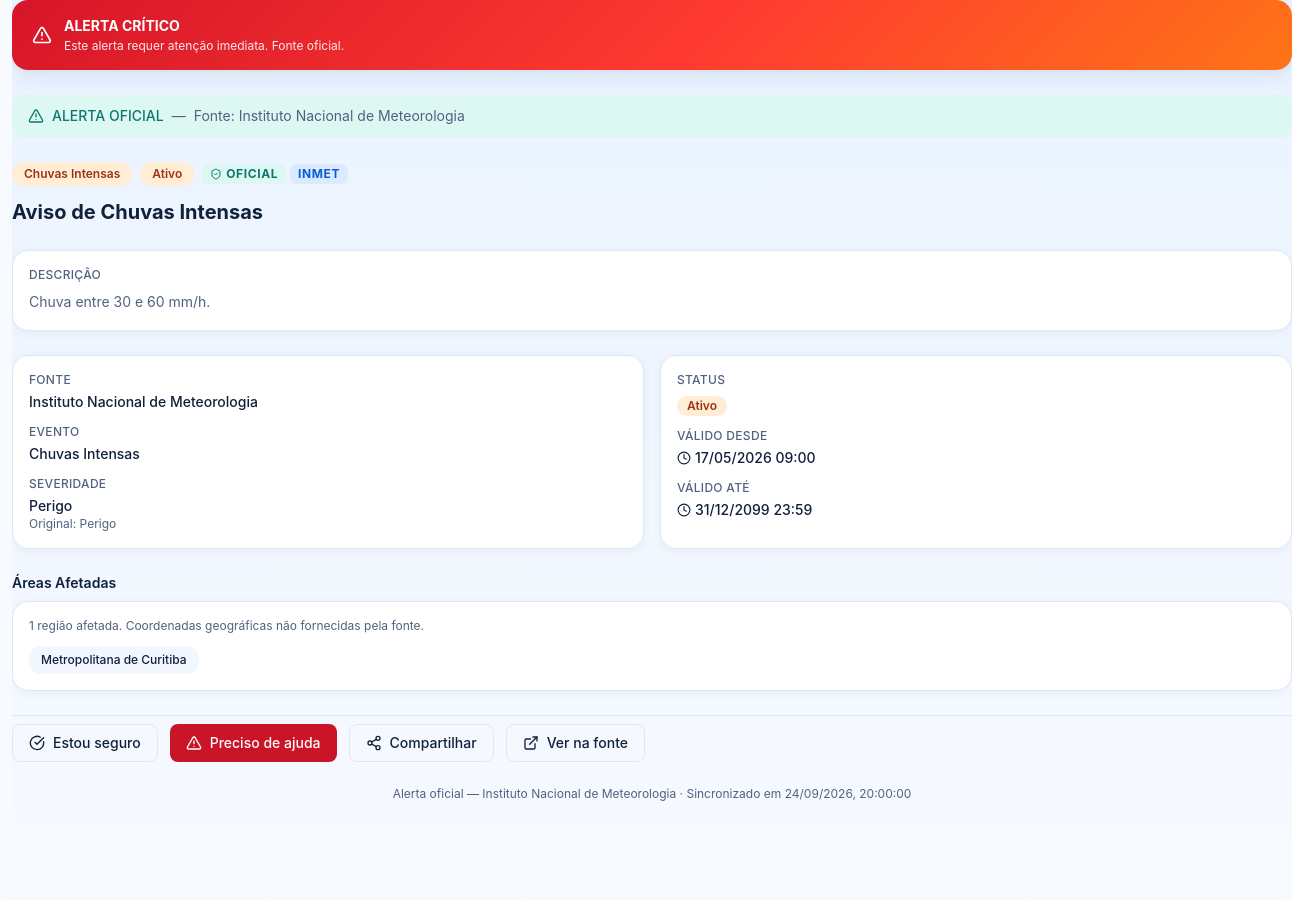
Test: OfficialAlertDetail citizen actions › share: copies the link and reports success truthfully
Click the button "Compartilhar" at (421, 743), box [348,724,494,762]
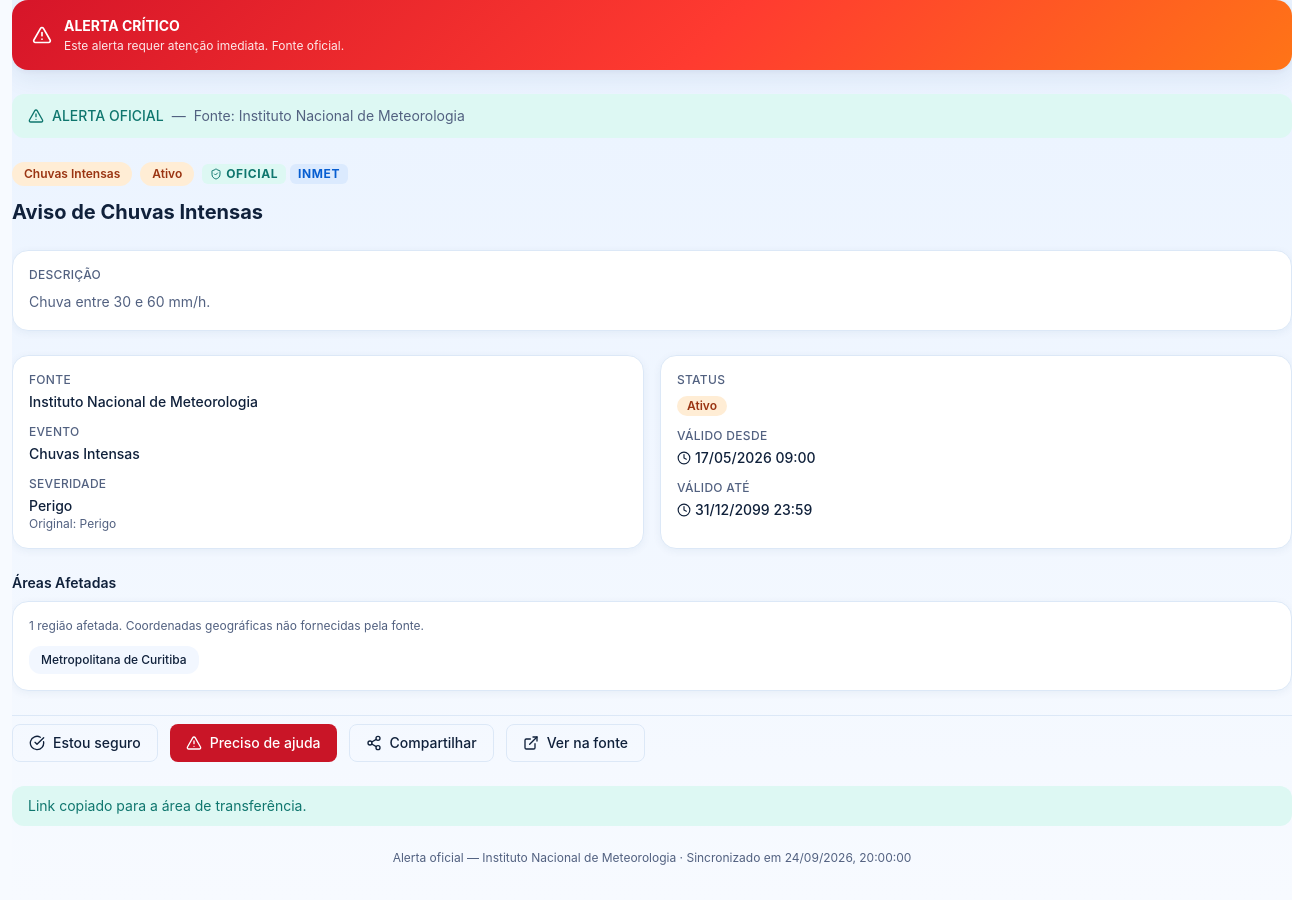
Result: the message shows "Link copiado" at [28,797,306,814]
